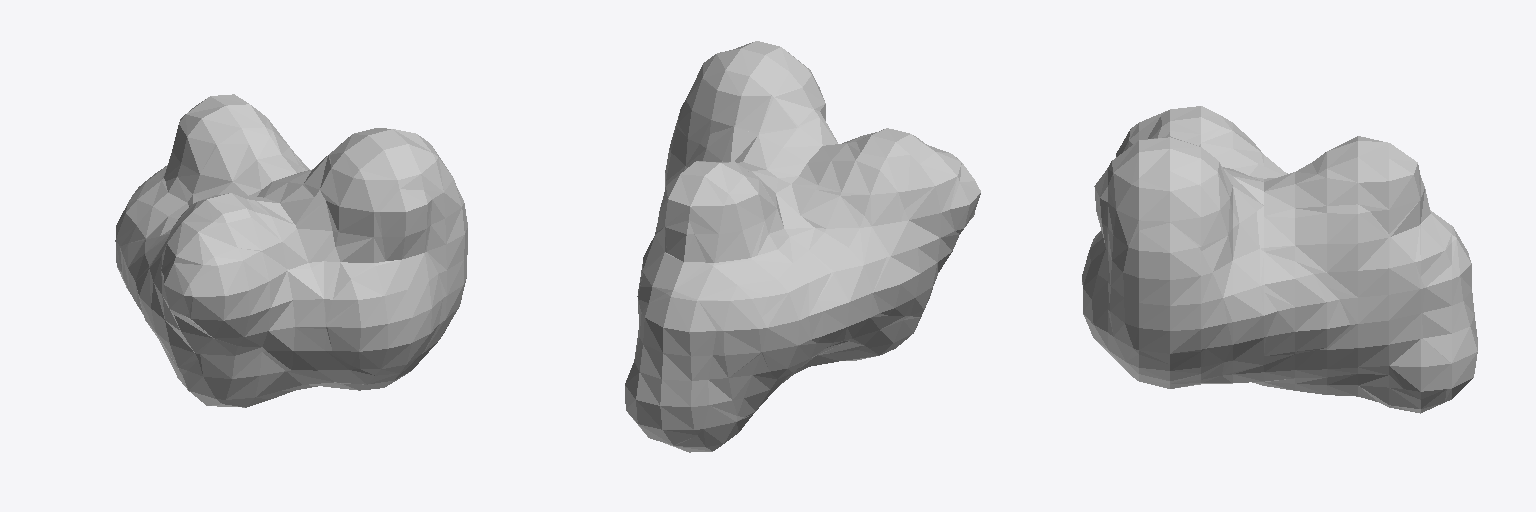
Rendered from 5dir_mb_cms.obj.
3 views of the same model, side by side, from view 1: azimuth 30°, elevation 25°; view 2: azimuth 150°, elevation 25°; view 3: azimuth 270°, elevation 25° (orthographic).
Bounding box in the file's own units: 51.75 × 49.51 × 60.28.